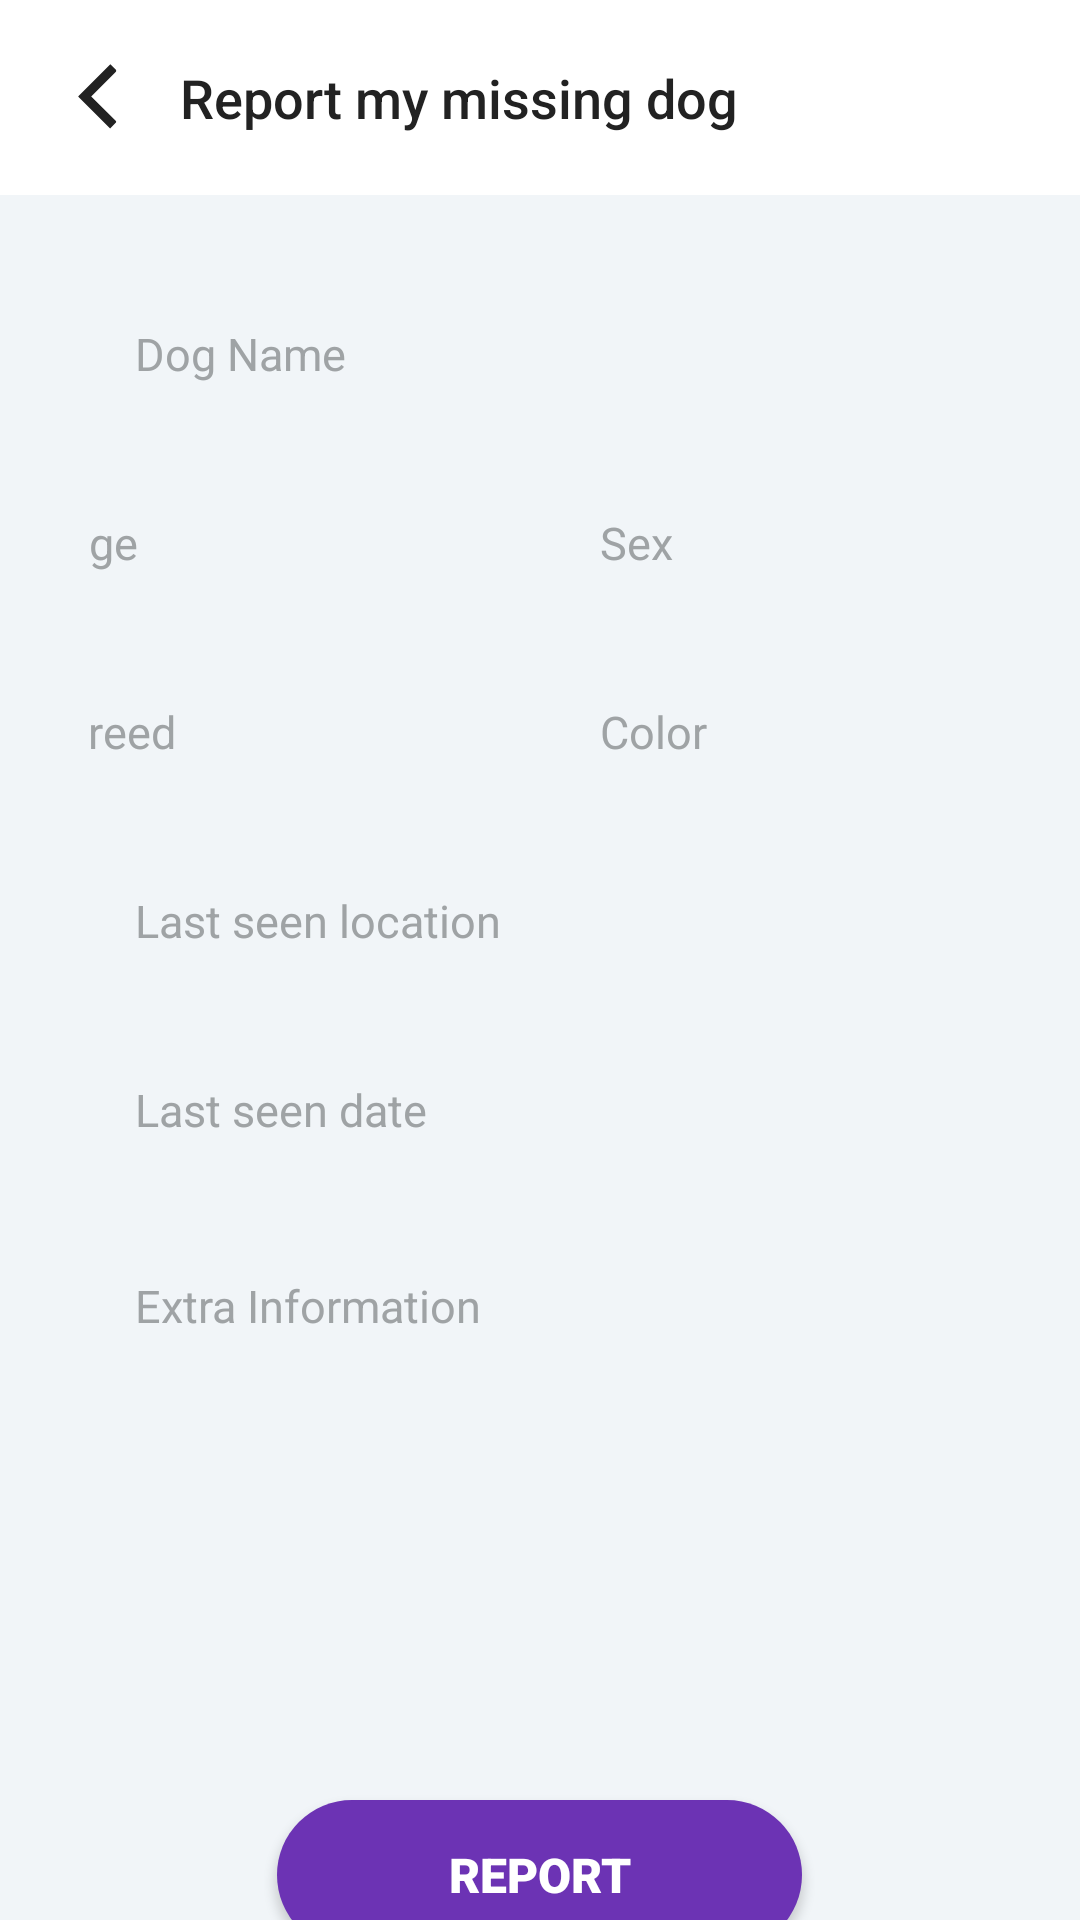

Screen size 1080w x 1920h. Icon name, then its center in pixels as point (x, y):
back: point (97, 96)
